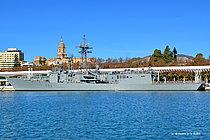MIL_Ship: (6, 34, 206, 92)
